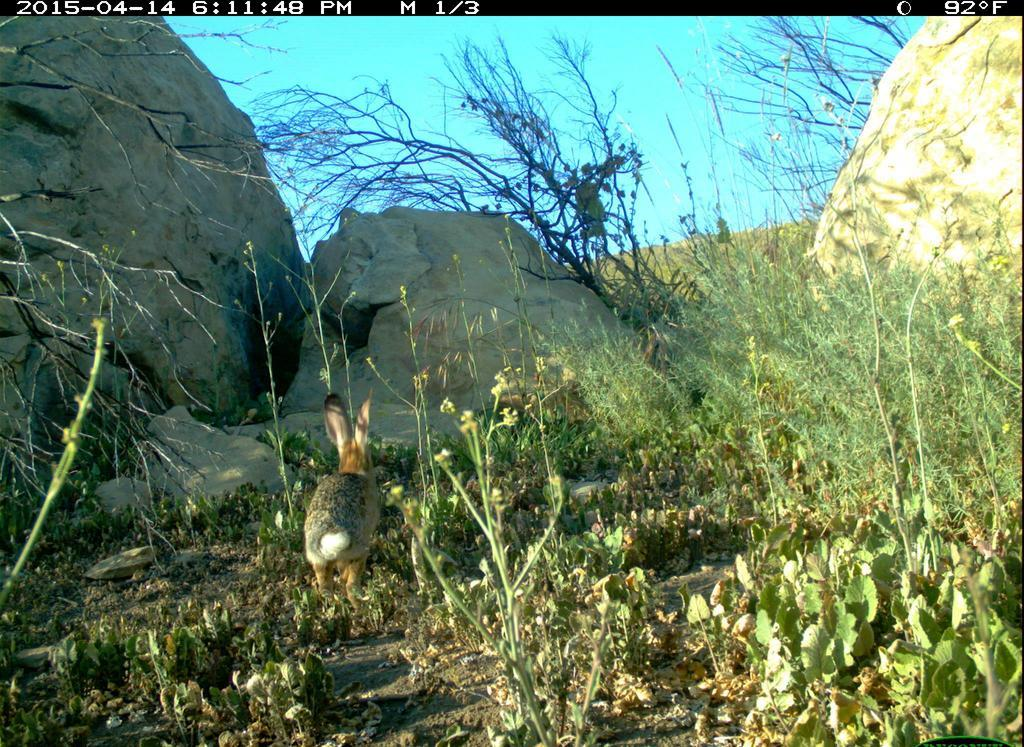rabbit: (297, 390, 401, 594)
